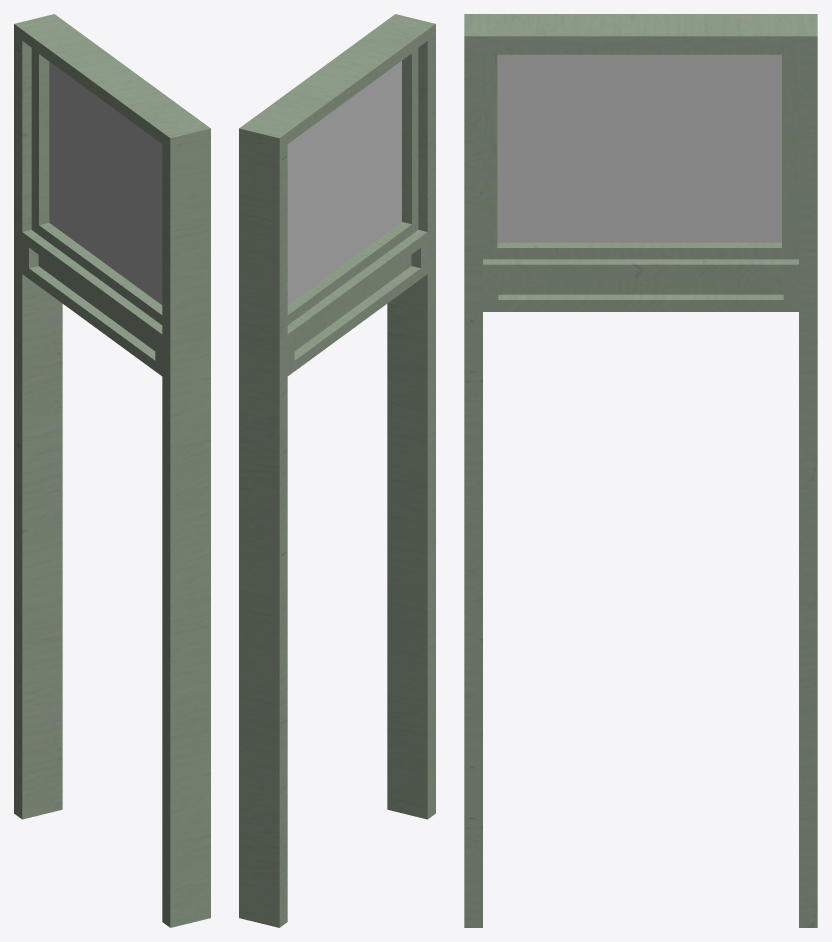
The model's file is SM_WD3_FRAME.fbx.
3 renders of one model, left to right at view 1: azimuth 30°, elevation 25°; view 2: azimuth 150°, elevation 25°; view 3: azimuth 270°, elevation 25°, orthographic. The views are drawn at different scales.
Parts seen in each view (by area): view 1: SM_WD3_FRAME; view 2: SM_WD3_FRAME; view 3: SM_WD3_FRAME.
Part boxes in pixels (box(x1,y1,x2,y2)): SM_WD3_FRAME: box(14, 14, 210, 927); SM_WD3_FRAME: box(239, 14, 435, 927); SM_WD3_FRAME: box(464, 14, 817, 927).
Size of the model in its own units: 16.01 by 107 by 299.
Materials: 2 (1 with a texture image).
